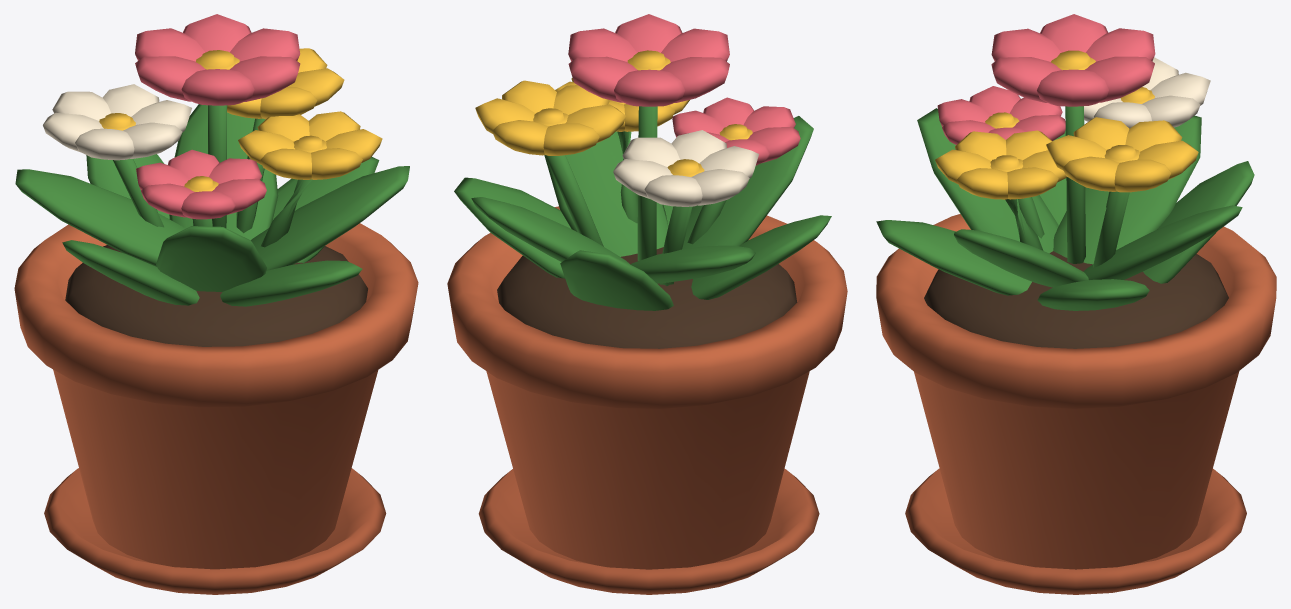
The model's file is prop_flower_pot.glb.
3 renders of one model, left to right at view 1: azimuth 30°, elevation 25°; view 2: azimuth 150°, elevation 25°; view 3: azimuth 270°, elevation 25°, orthographic.
Parts seen in each view (by area): view 1: prop_flower_pot; view 2: prop_flower_pot; view 3: prop_flower_pot.
Part boxes in pixels (box(x1,y1,x2,y2)): prop_flower_pot: box(14, 14, 418, 594); prop_flower_pot: box(447, 14, 847, 594); prop_flower_pot: box(876, 14, 1276, 594).
Bounding box in the file's own units: 0.6741 × 0.9 × 0.6698.
